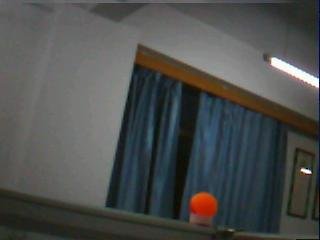oball: (190, 193, 217, 217)
